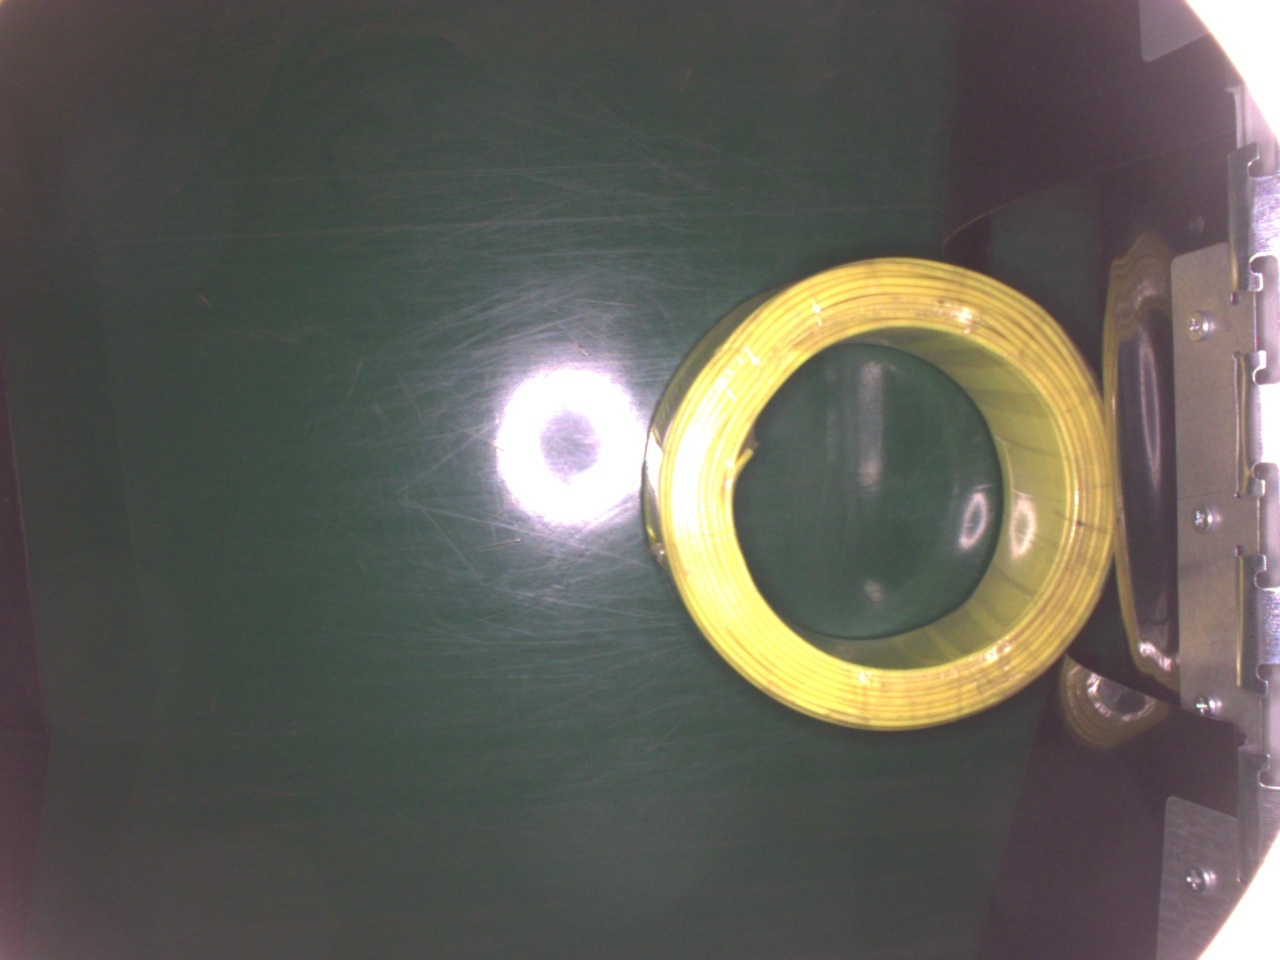yellow: (636, 251, 1107, 731)
